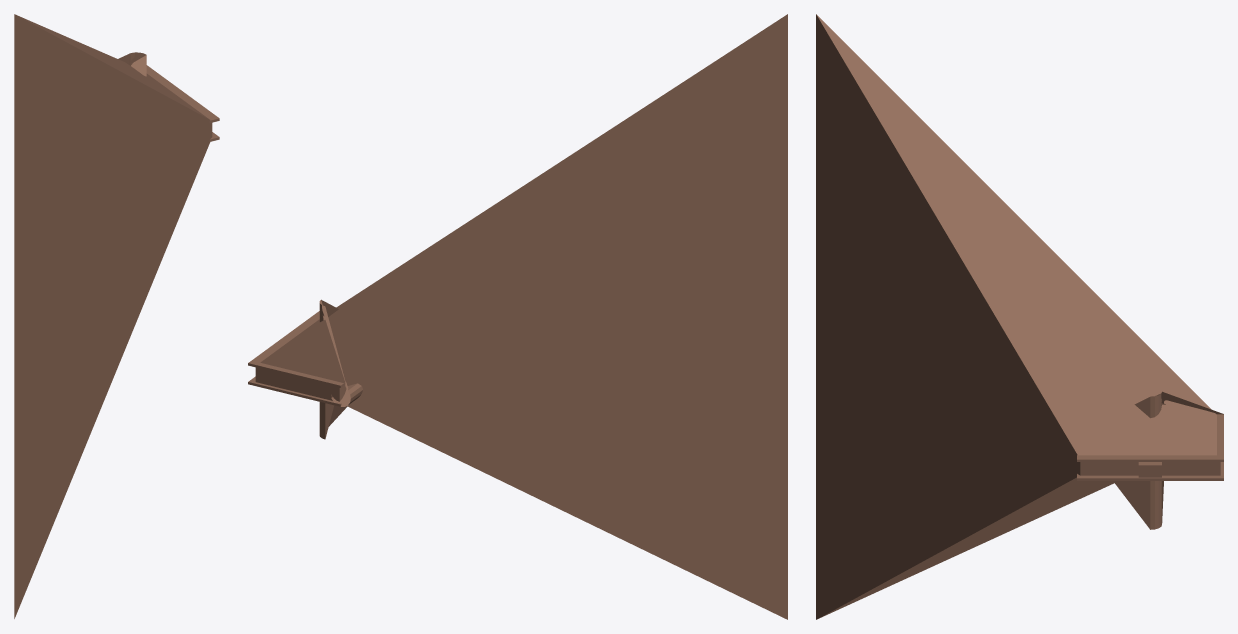
Rendered from SM_Prop_Diary_01.glb.
3 views of the same model, side by side, from view 1: azimuth 30°, elevation 25°; view 2: azimuth 150°, elevation 25°; view 3: azimuth 270°, elevation 25° (orthographic).
Parts seen in each view (by area): view 1: SM_Prop_Diary_01; view 2: SM_Prop_Diary_01; view 3: SM_Prop_Diary_01.
Boxes of the visible parts, x1,y1,x2,y2 form: SM_Prop_Diary_01: (14, 14, 219, 618); SM_Prop_Diary_01: (248, 14, 787, 619); SM_Prop_Diary_01: (816, 14, 1223, 619).
Bounding box in the file's own units: 0.5855 × 1 × 0.61.
